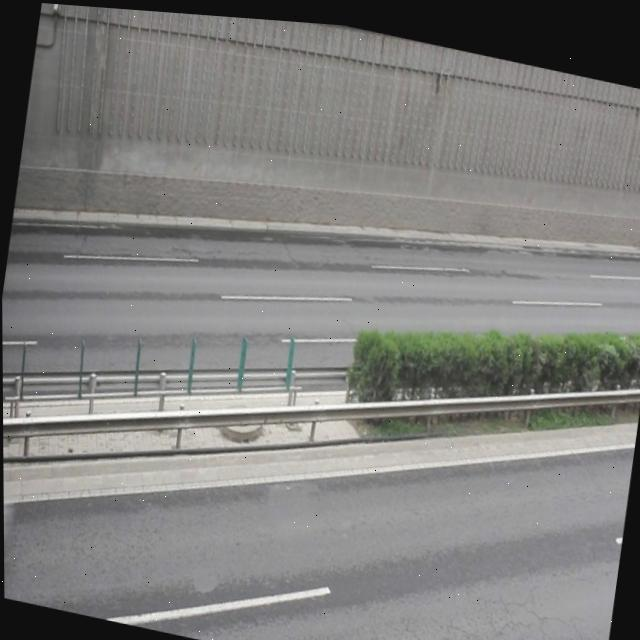car: (504, 625, 606, 640)
